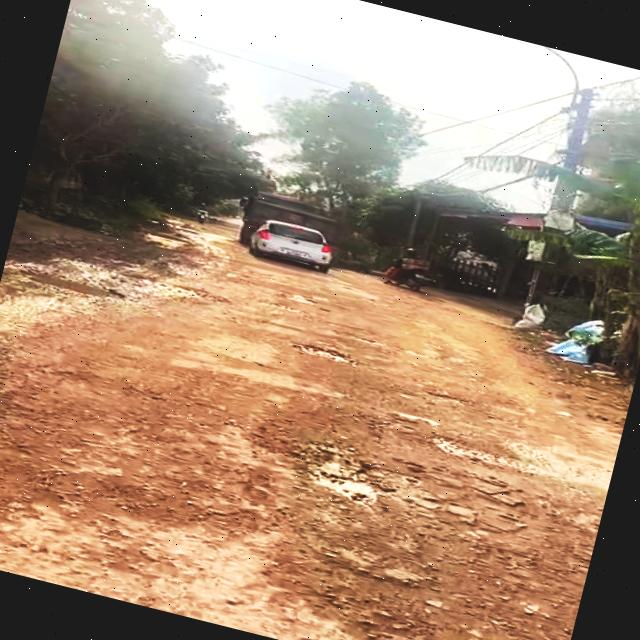pothole: (287, 540, 578, 640), (276, 427, 410, 515), (430, 430, 544, 480), (16, 264, 132, 305), (288, 338, 360, 368)
